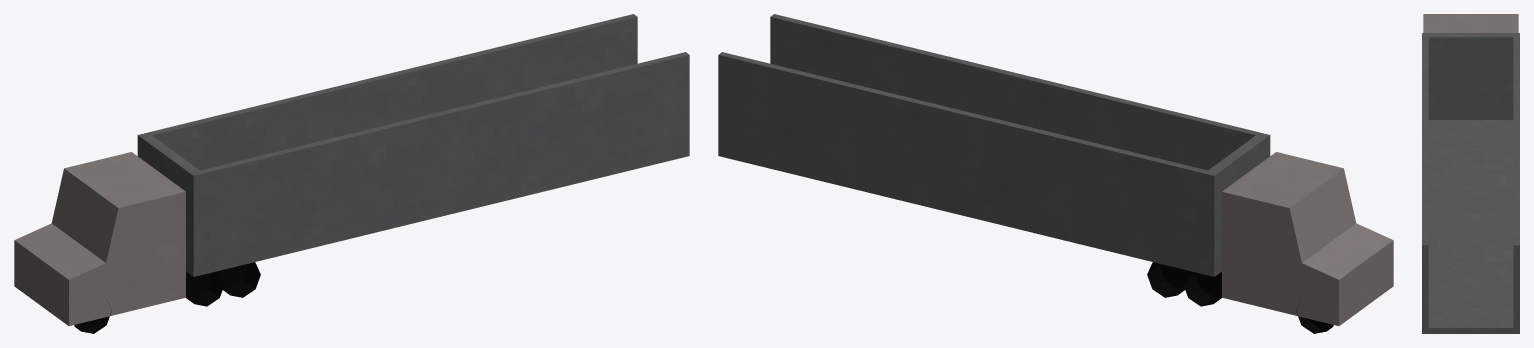
File: semitruck.fbx
3 renders of one model, left to right at view 1: azimuth 30°, elevation 25°; view 2: azimuth 150°, elevation 25°; view 3: azimuth 270°, elevation 25°, orthographic. The views are drawn at different scales.
Visible parts, largest first — view 1: Trailer, Cabin, WheelSet.001; view 2: Trailer, Cabin, WheelSet.001; view 3: Trailer, Cabin.
Boxes of the visible parts, x1,y1,x2,y2 form: Trailer: (137,14,689,276); Cabin: (14,152,185,325); WheelSet.001: (186,262,260,306); Trailer: (718,14,1270,276); Cabin: (1222,152,1393,325); WheelSet.001: (1147,262,1221,306); Trailer: (1422,33,1519,333); Cabin: (1423,14,1518,32).
Size of the model in its own units: 5000 by 1035 by 780.
